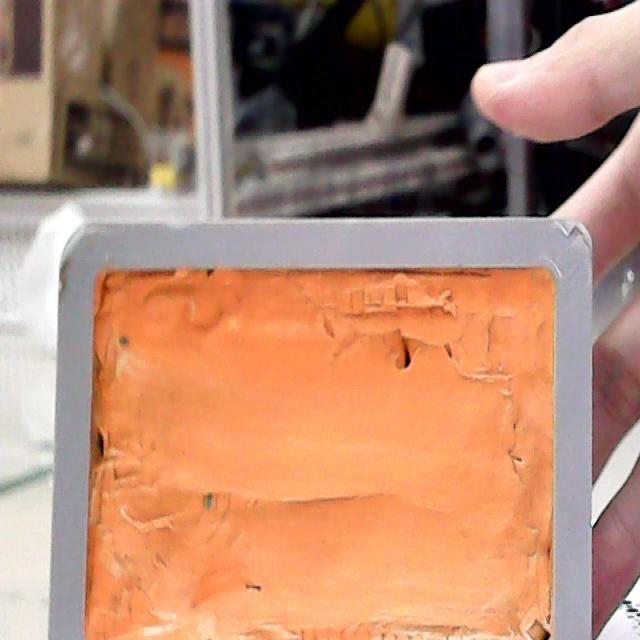block: (42, 218, 600, 640)
